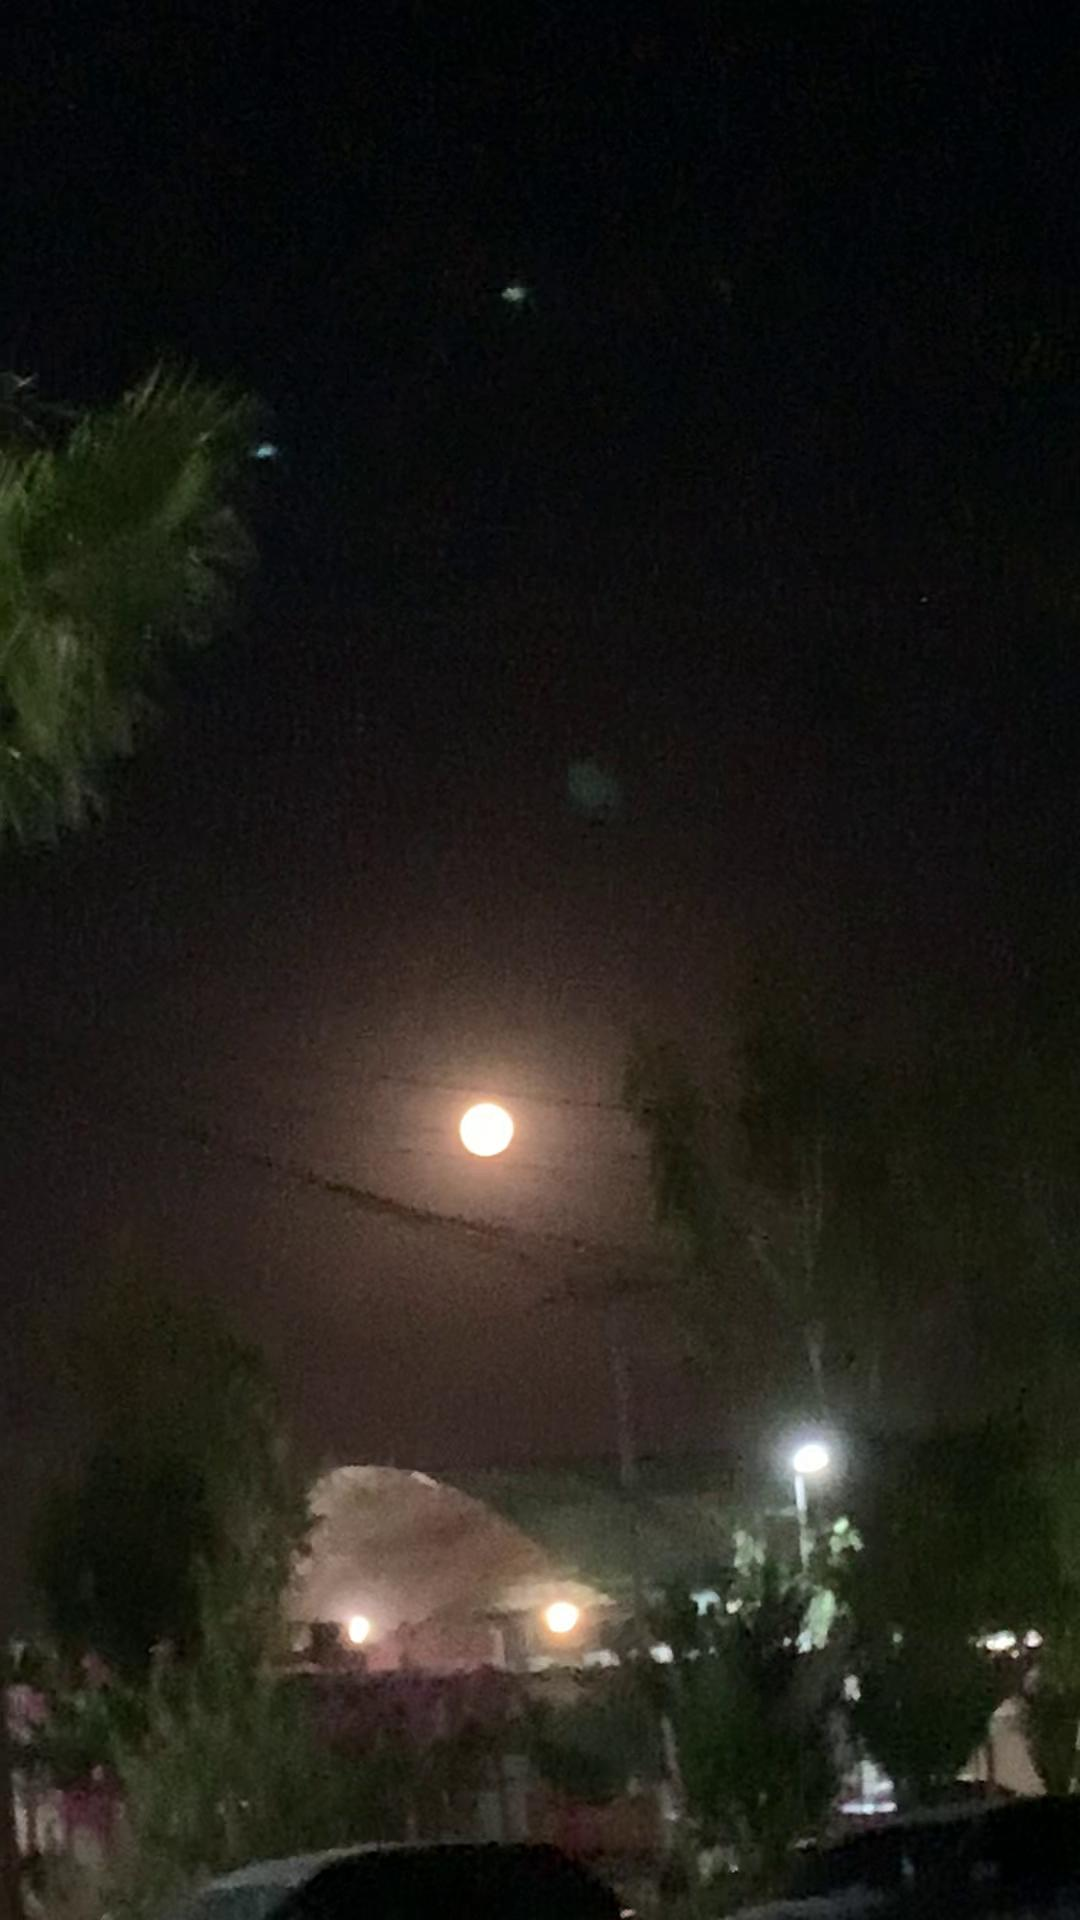moon: (435, 1075, 543, 1170)
